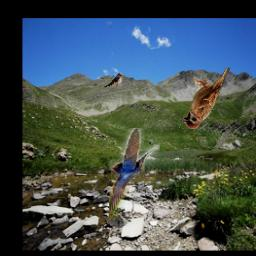Sparrow: (183, 67, 229, 129)
Swallow: (109, 129, 160, 221), (103, 73, 123, 87)
